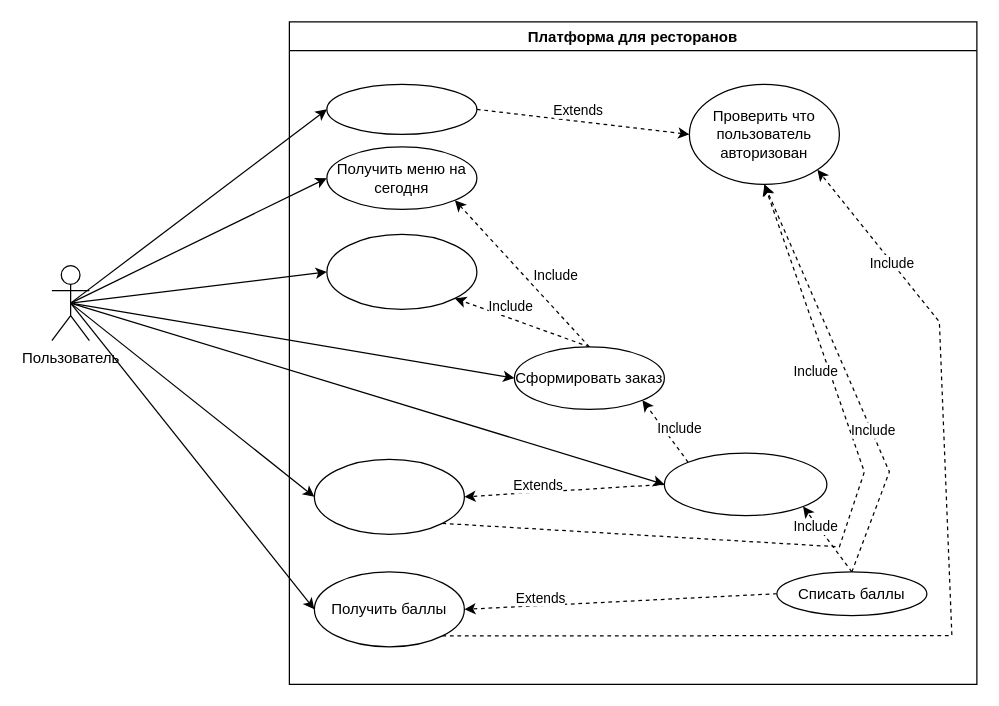
The diagram is 999 pixels wide and 706 high, and some of its shapes have lost their labels. The shapes that lost their labels are listed below. From the top down, each one's centre as x and y in pixels, then its label:
At pixel 401 108: "Авторизоваться".
At pixel 401 271: "Получить расписание столиков".
At pixel 388 496: "Получить список заказов".
At pixel 745 484: "Оплатить заказ с помощью биллинга".
